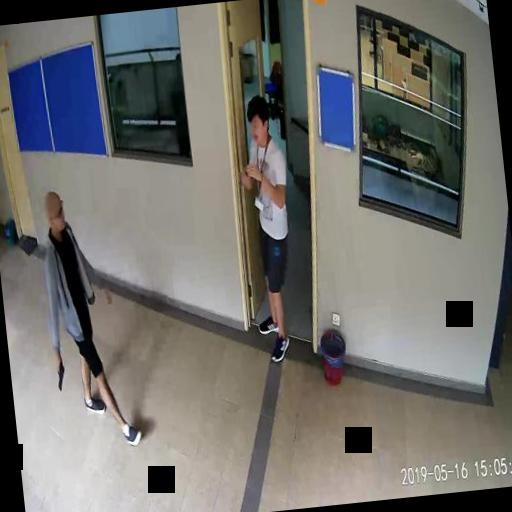Handgun: (52, 356, 65, 391)
